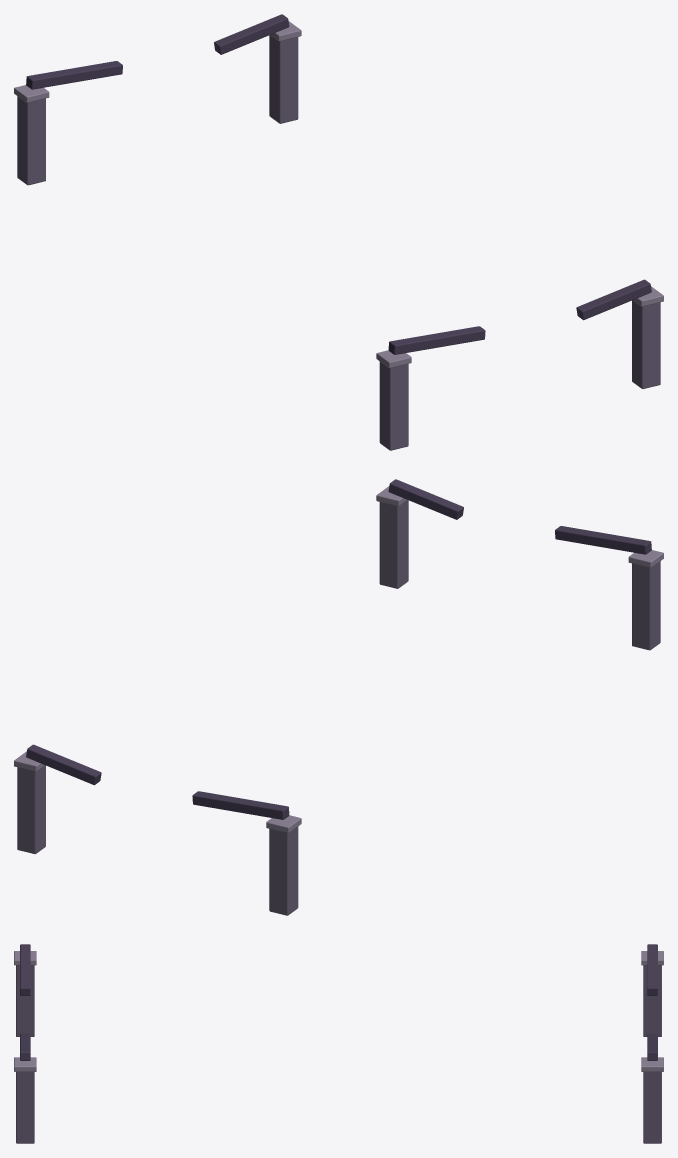
Rendered from Gates.fbx.
The picture shows the model from 3 angles, top to bottom: view 1: azimuth 30°, elevation 25°; view 2: azimuth 150°, elevation 25°; view 3: azimuth 270°, elevation 25°; orthographic projection. The views are drawn at different scales.
Parts seen in each view (by area): view 1: EntryGatePillar-1.001; view 2: EntryGatePillar-1.001; view 3: EntryGatePillar-1.001.
Part boxes in pixels (x1,y1,x2,y2): EntryGatePillar-1.001: (14,14,663,450); EntryGatePillar-1.001: (14,479,663,915); EntryGatePillar-1.001: (14,944,663,1143).
Bounding box in the file's own units: 10250 × 3636 × 24250.
